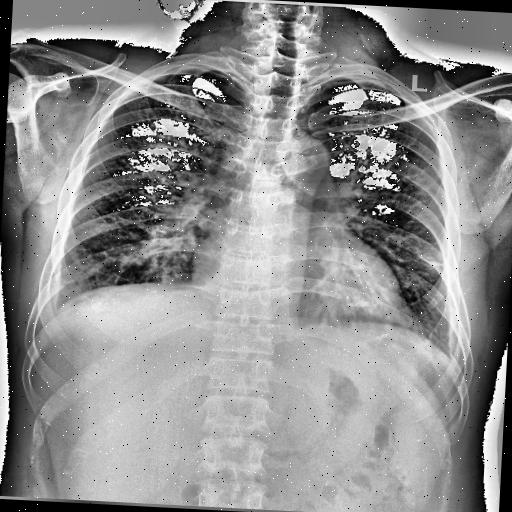0- Aortic enlargement: (276, 130, 332, 186)
11- Pleural thickening: (40, 255, 83, 329), (442, 288, 470, 370)
13- Pulmonary fibrosis: (416, 252, 452, 271), (424, 258, 444, 268)
3- Cardiomegaly: (186, 240, 424, 331), (186, 244, 410, 326)
